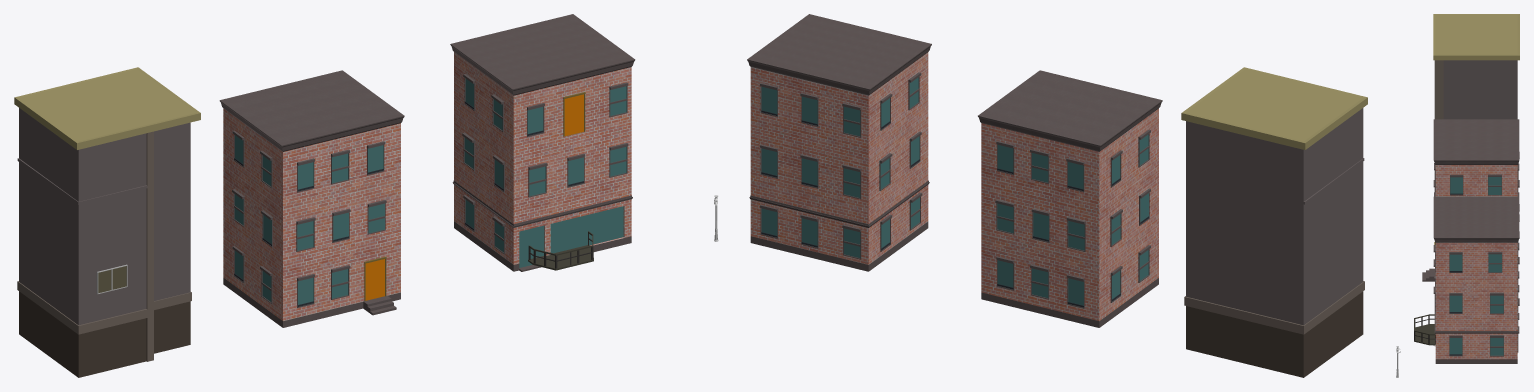
File: Lamp.fbx
3 renders of one model, left to right at view 1: azimuth 30°, elevation 25°; view 2: azimuth 150°, elevation 25°; view 3: azimuth 270°, elevation 25°, orthographic. The views are drawn at different scales.
Visible parts, largest first — view 1: pCube6, pCube7, pCube1, pCube11, pCube2, pCube2.001, pCube13, pCube16, pCube4.003, pCube4, pCube4.002, pCube4.012 (+3 smaller); view 2: pCube6, pCube7, pCube1, pCube4.013, pCube4.020, pCube4.008, pCube4.010, pCube4.021, pCube4.007, pCube4.009, pCube5.014, pCube5.022 (+9 smaller); view 3: pCube7, pCube6, pCube1, pCube11, pCube4.015, pCube4.014, pCube4.006, pCube4.016, pCube5.018, pCube5.006, pCube5.017, pCube5.016 (+1 smaller).
Part boxes in pixels (x1,y1,x2,y2): pCube6: (14,67,200,377); pCube7: (450,14,635,271); pCube1: (219,70,404,327); pCube11: (528,231,593,270); pCube2: (563,92,585,136); pCube2.001: (364,256,386,301); pCube13: (519,225,544,267); pCube16: (96,264,127,294); pCube4.003: (367,199,386,234); pCube4: (331,265,350,299); pCube4.002: (331,149,350,184); pCube4.012: (609,82,628,117); pCube6: (1181,67,1367,377); pCube7: (747,14,931,271); pCube1: (978,70,1162,327); pCube4.013: (842,164,861,199); pCube4.020: (842,102,861,137); pCube4.008: (995,199,1014,234); pCube4.010: (1066,217,1085,251); pCube4.021: (842,224,861,259); pCube4.007: (1030,264,1049,299); pCube4.009: (1030,149,1049,183); pCube5.014: (800,154,818,188); pCube5.022: (800,92,818,126); pCube7: (1433,196,1519,363); pCube6: (1433,14,1519,191); pCube1: (1433,119,1519,196); pCube11: (1414,314,1435,346); pCube4.015: (1488,251,1502,272); pCube4.014: (1490,292,1503,314); pCube4.006: (1488,174,1501,195); pCube4.016: (1490,335,1503,356); pCube5.018: (1449,335,1462,356); pCube5.006: (1450,174,1463,195); pCube5.017: (1449,293,1462,313); pCube5.016: (1449,252,1462,272).
Size of the model in its own units: 4761 by 1778 by 1203.
